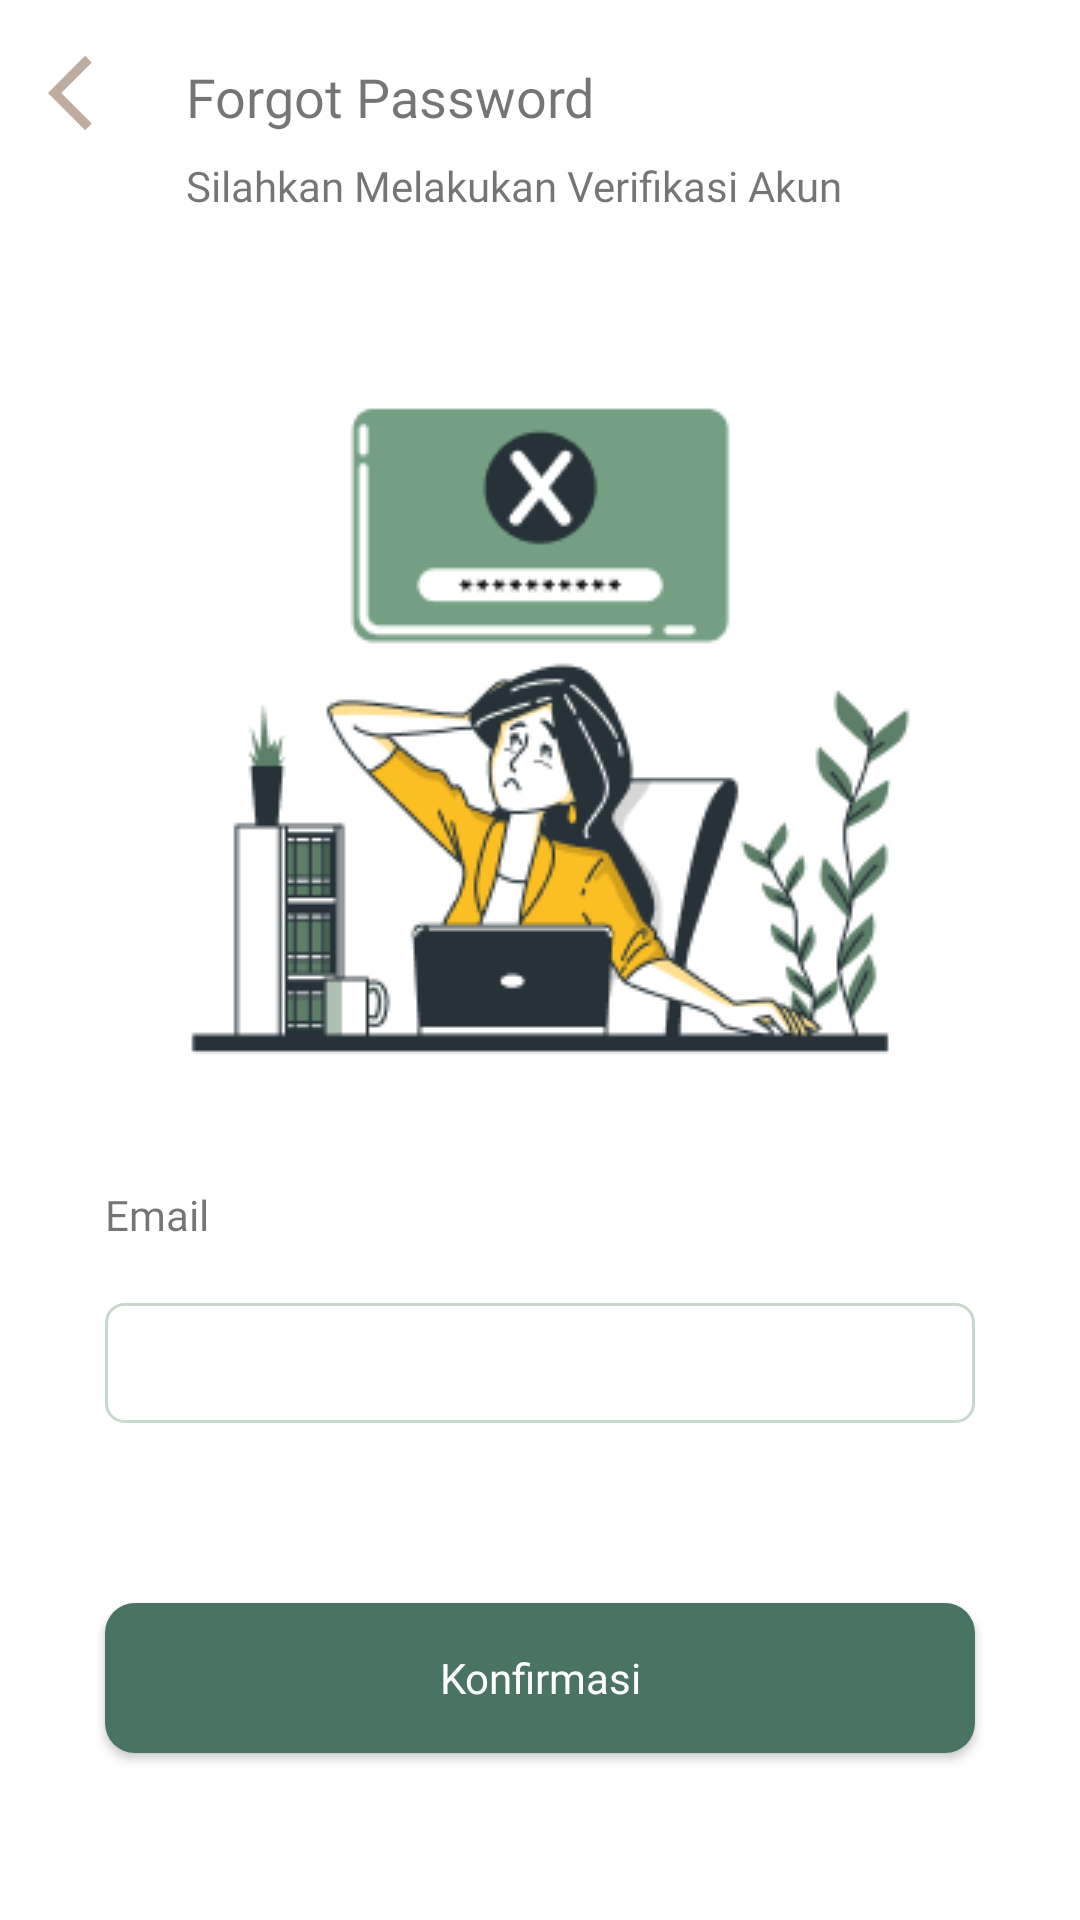

Screen size 1080px×1920px. Icon name, then its center in pixels as (x,y):
arrow back: (70,93)
